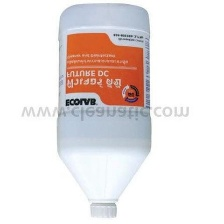cleaning_solution: (53, 0, 153, 222)
